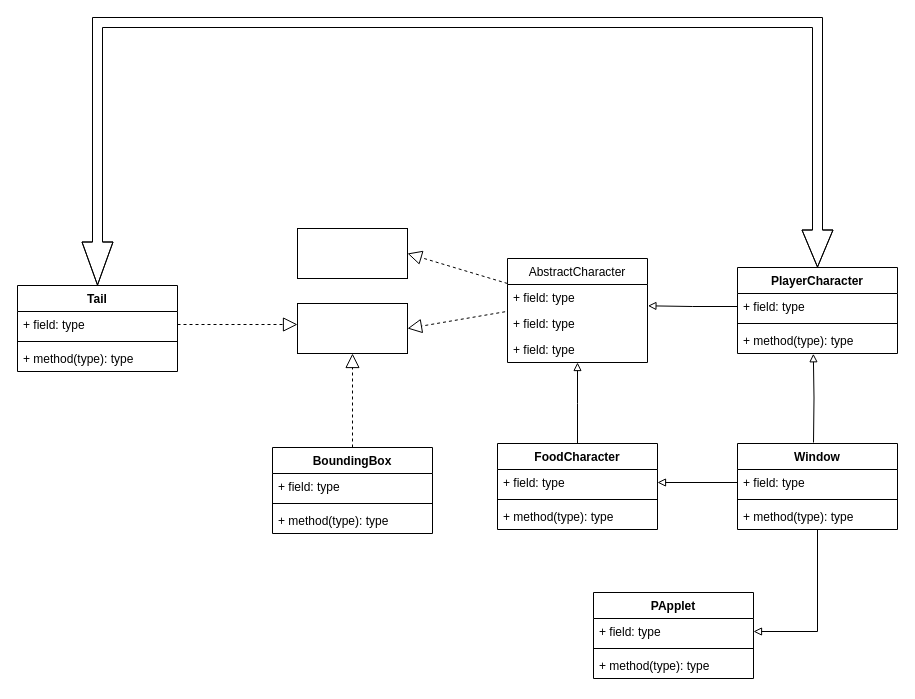
Some shapes in this 915 by 699 pixel diagram are drawn without their labels. The centre of each missing label's shape, as x and y in pixels:
"«interface» ICollidable" belongs at point 352,253.
"«interface» IDrawable" belongs at point 352,328.
